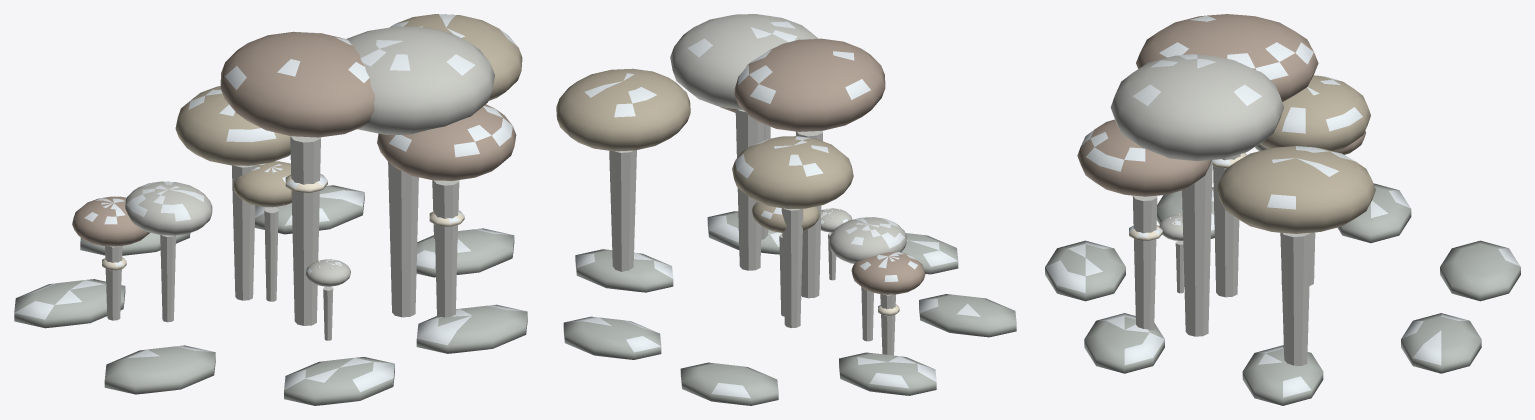
File: mushroom_cluster_winter.glb
3 renders of one model, left to right at view 1: azimuth 30°, elevation 25°; view 2: azimuth 150°, elevation 25°; view 3: azimuth 270°, elevation 25°, orthographic. The views are drawn at different scales.
Visible parts, largest first — view 1: mushroom_cluster_winter; view 2: mushroom_cluster_winter; view 3: mushroom_cluster_winter.
Boxes of the visible parts, x1,y1,x2,y2 form: mushroom_cluster_winter: (14,14,527,405); mushroom_cluster_winter: (556,14,1016,405); mushroom_cluster_winter: (1045,14,1520,405).
Bounding box in the file's own units: 1.57 × 0.9307 × 1.46.
